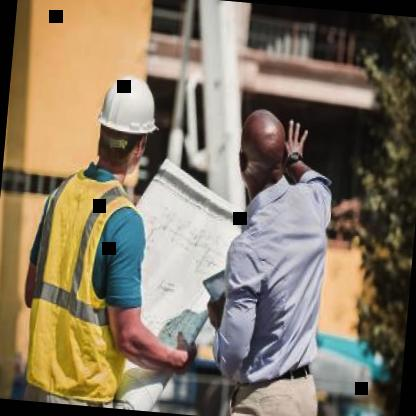head: (223, 103, 294, 203)
helmet: (90, 68, 167, 181)
